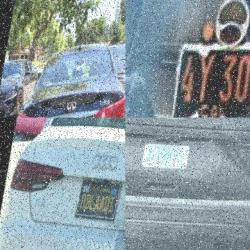LicensePlate: (173, 39, 250, 117), (76, 180, 122, 225), (141, 145, 190, 172)
